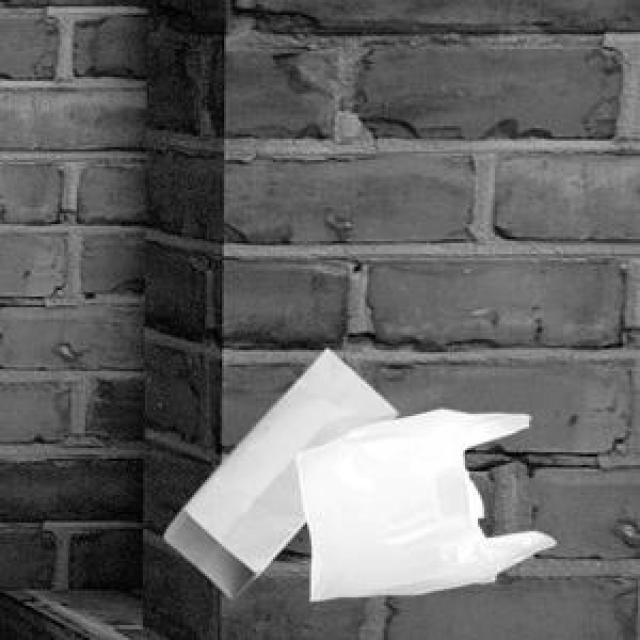paper: (160, 346, 395, 593)
